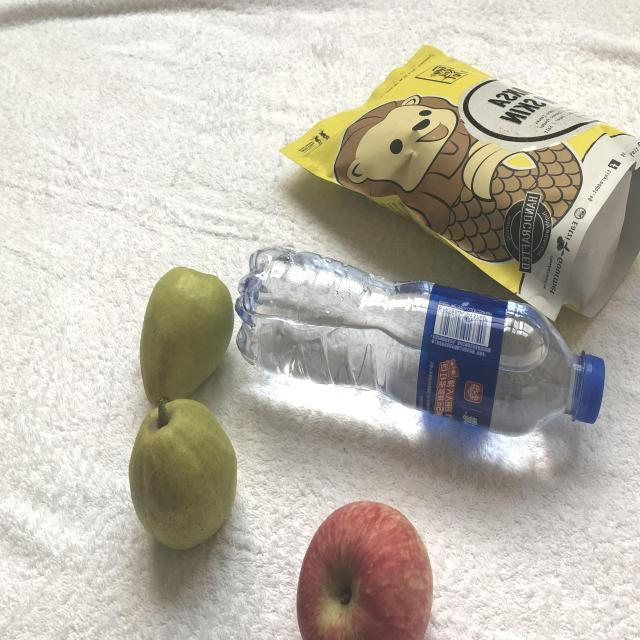apple: (286, 495, 440, 640)
